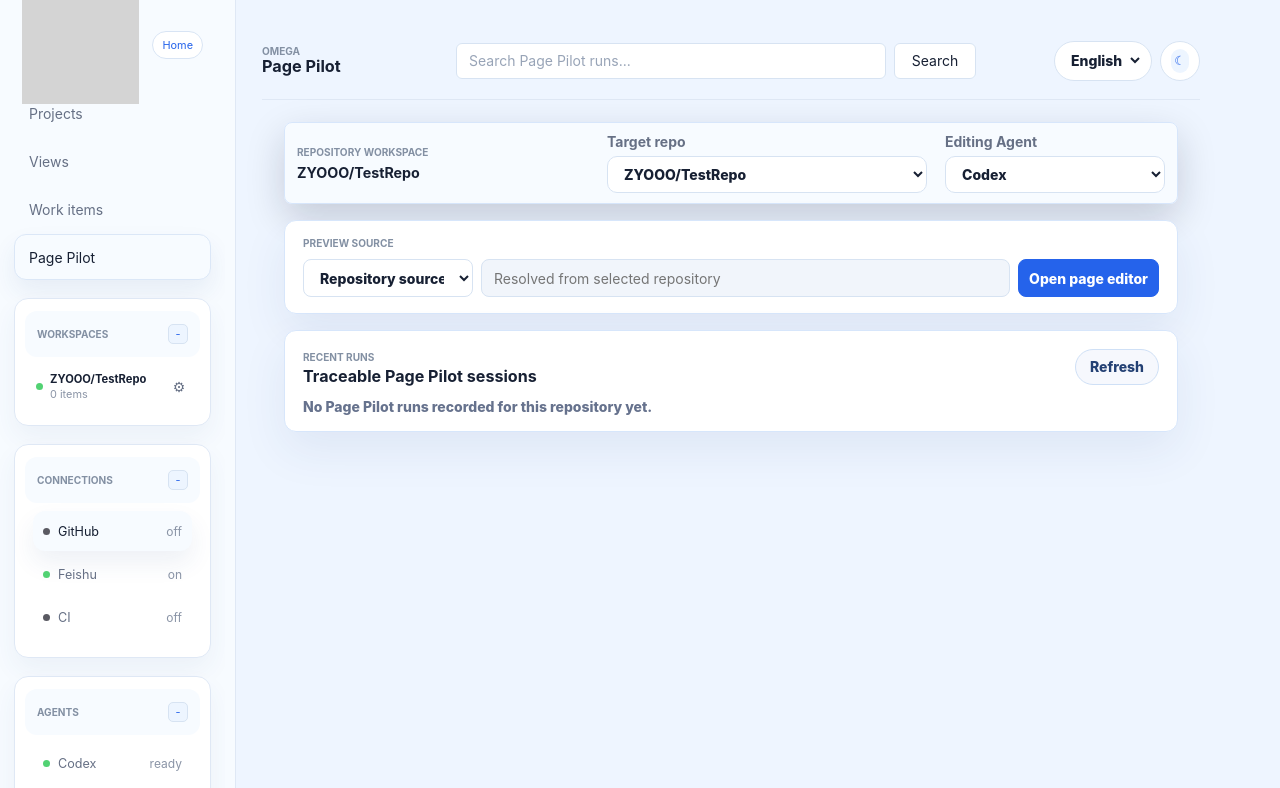
App operator view › shows Feishu current-user fallback as connected and opens settings from Page Pilot
The image size is (1280, 788).
Click the button "Feishu on". click: (112, 574)
box: x1=33 y1=554 x2=192 y2=594
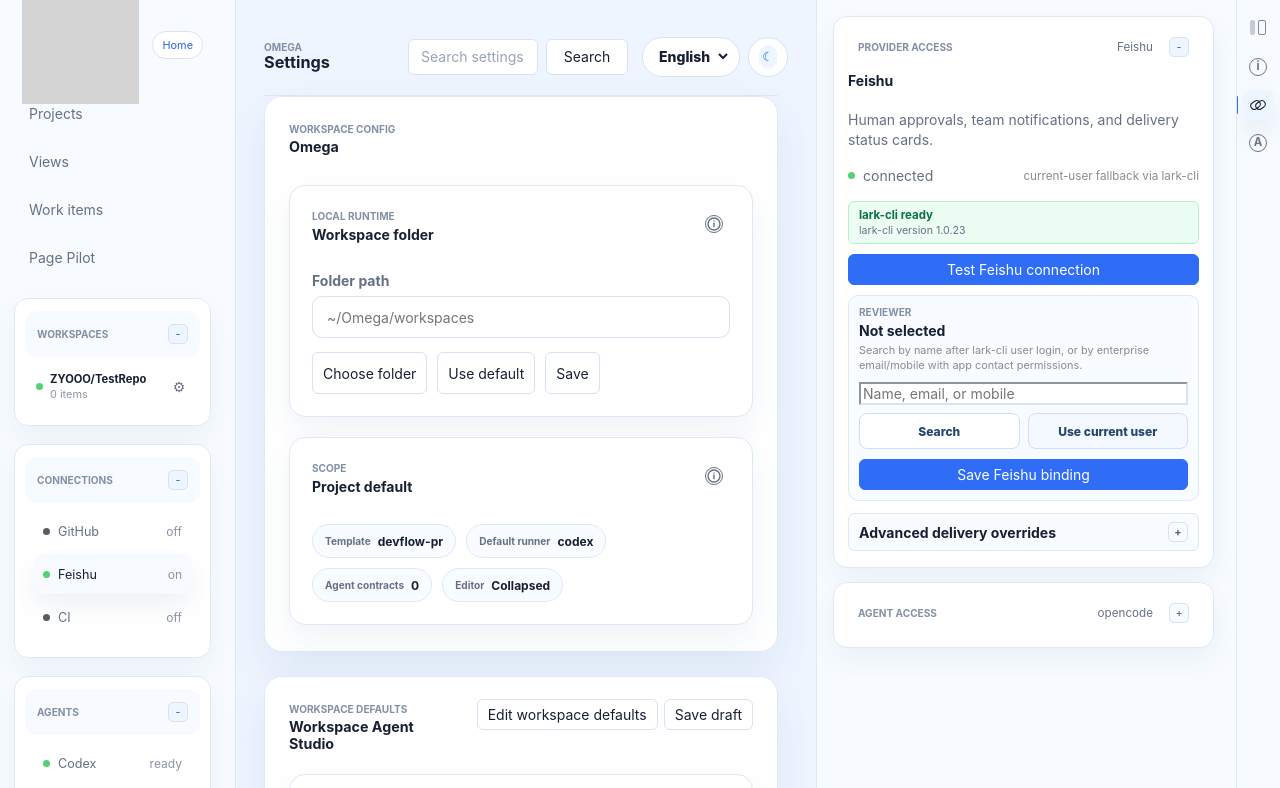
Check: the heading "Settings" is shown, box x1=264 y1=52 x2=330 y2=72
Check: the text "current-user fallback via lark-cli" is shown, box x1=1023 y1=169 x2=1199 y2=183
Check: the button "Test Feishu connection" is shown, box x1=848 y1=254 x2=1199 y2=285
